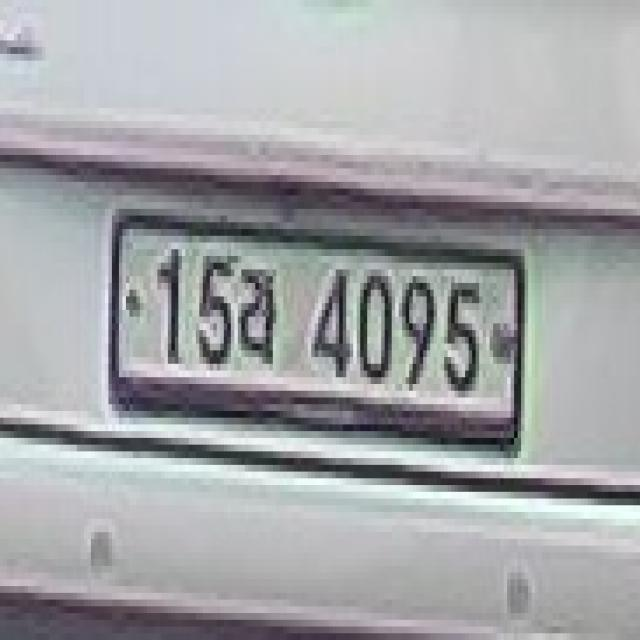0: (357, 263, 395, 397)
1: (150, 229, 189, 371)
4: (308, 262, 353, 390)
5: (192, 236, 238, 370), (441, 270, 486, 404)
9: (399, 262, 437, 390)
la: (238, 256, 283, 371)
license_plate: (105, 202, 535, 465)
